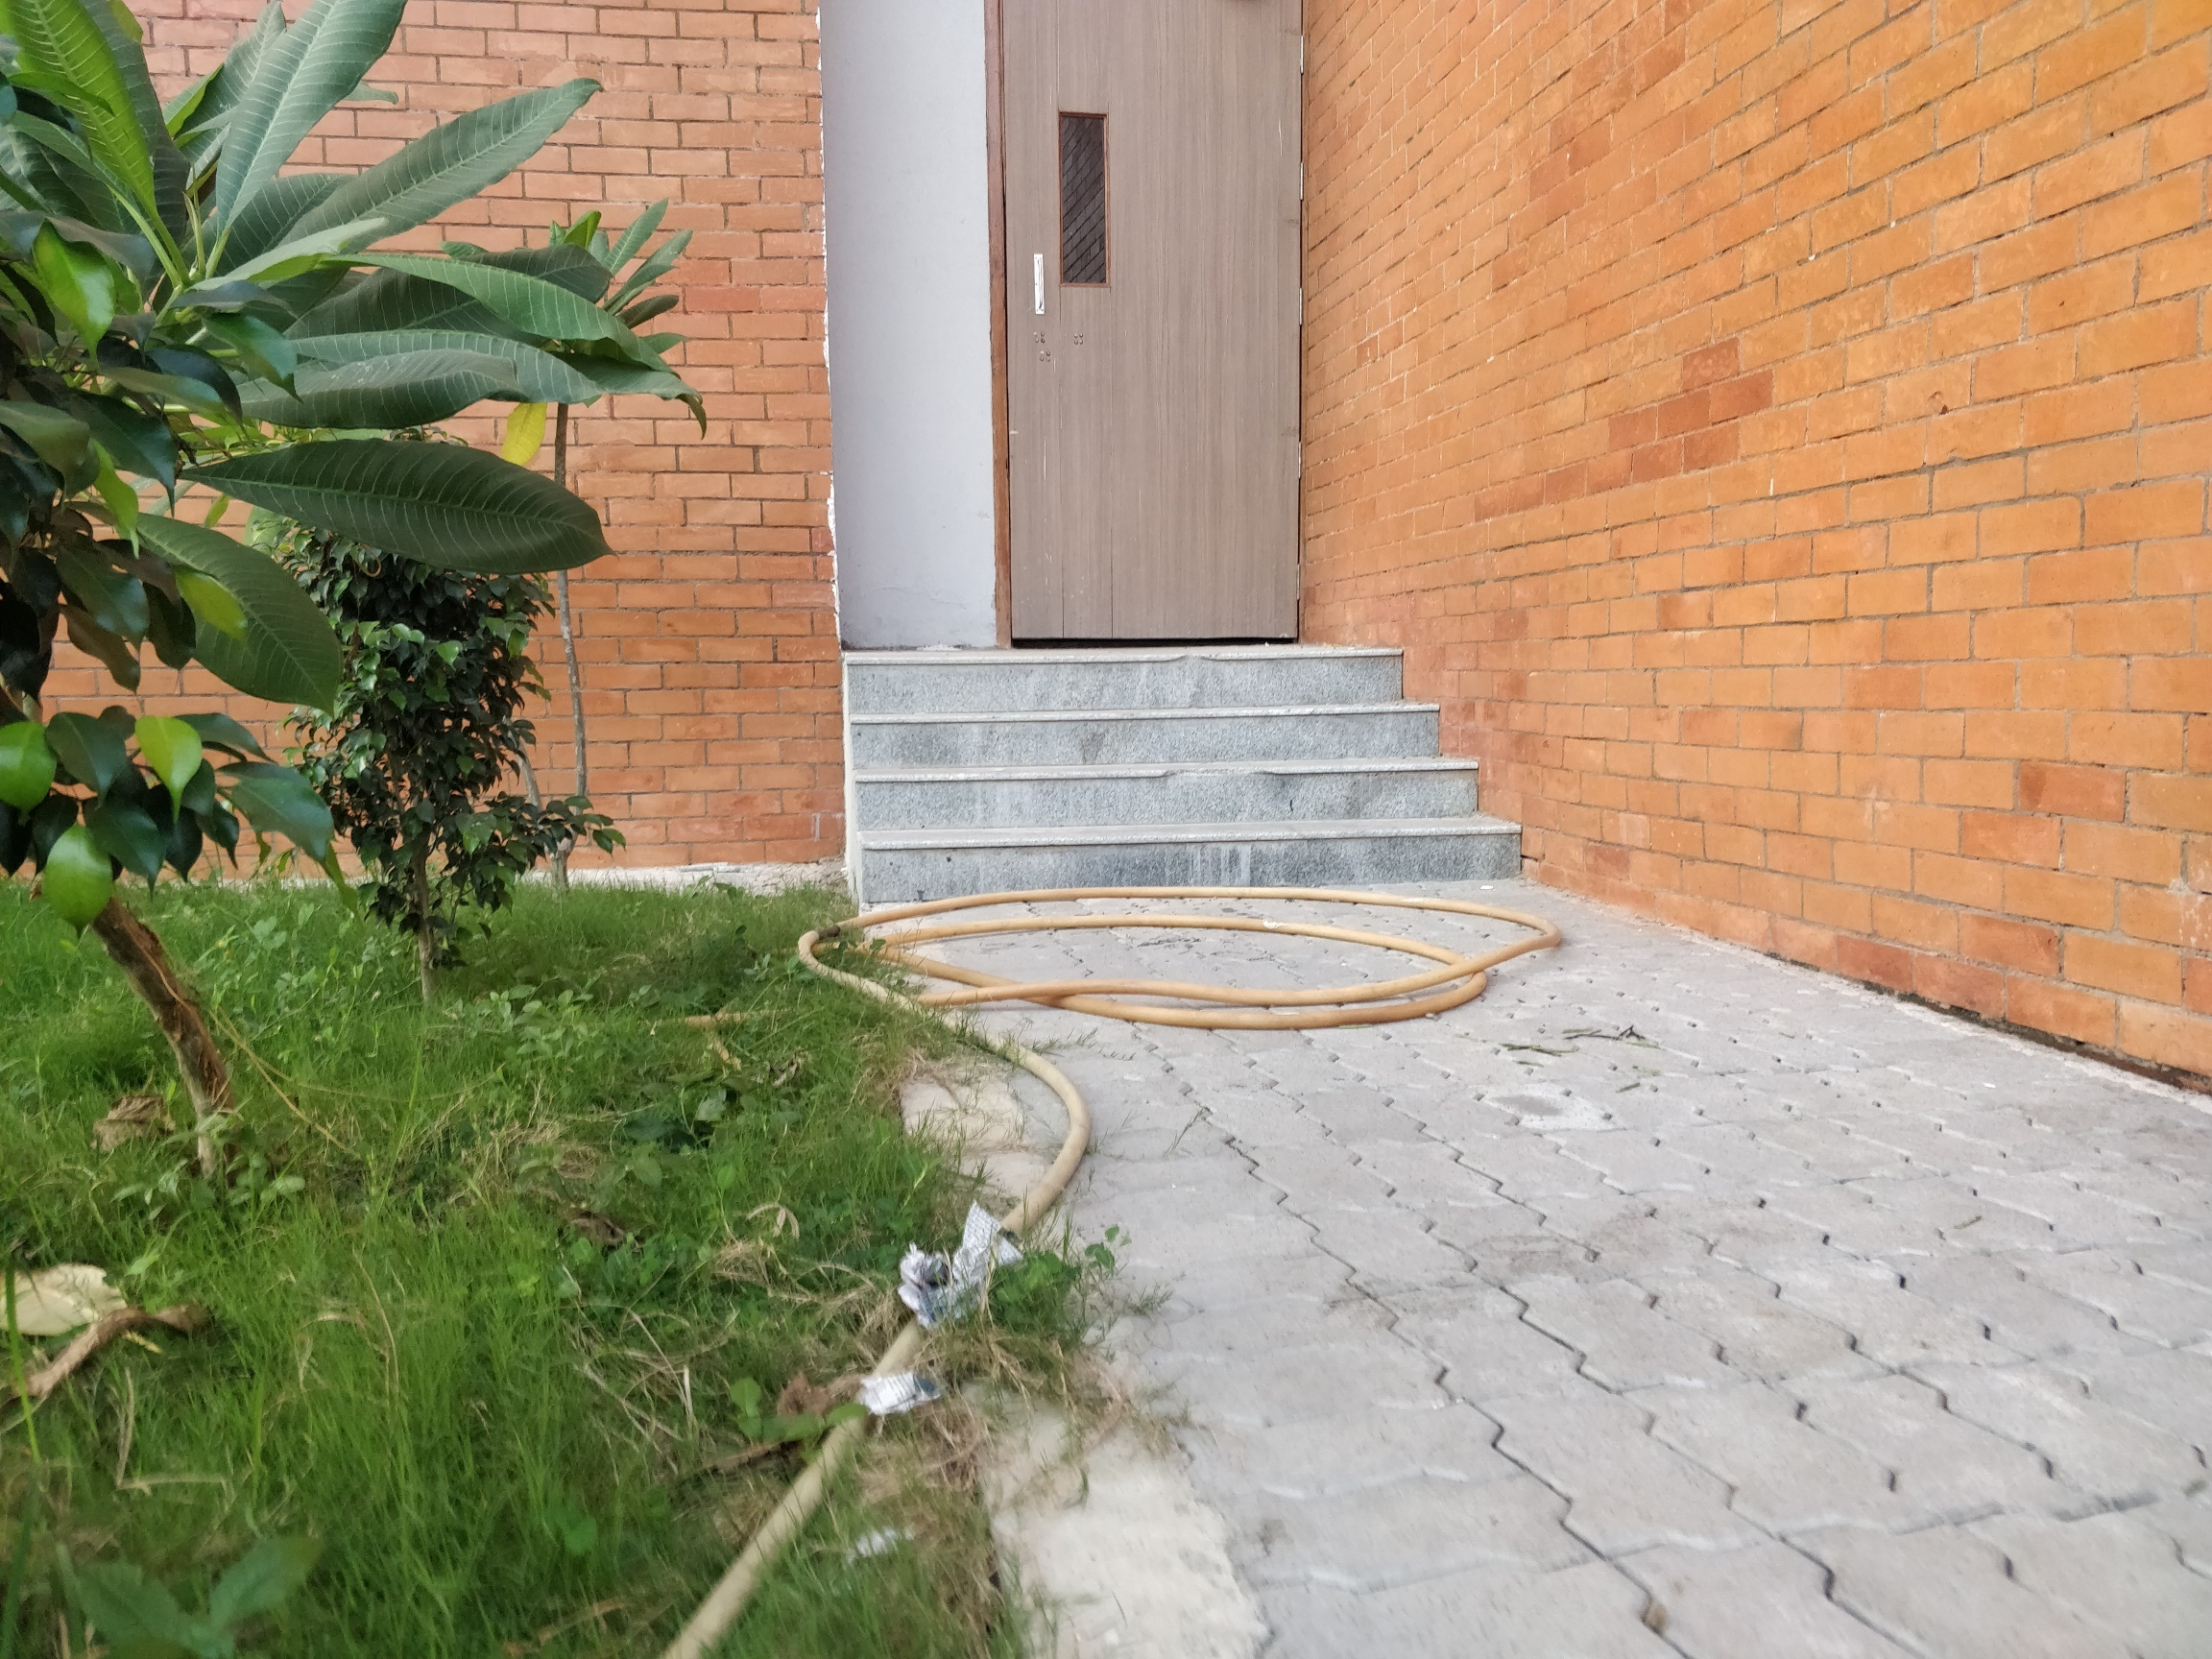stairs_up: (819, 638, 1498, 911)
